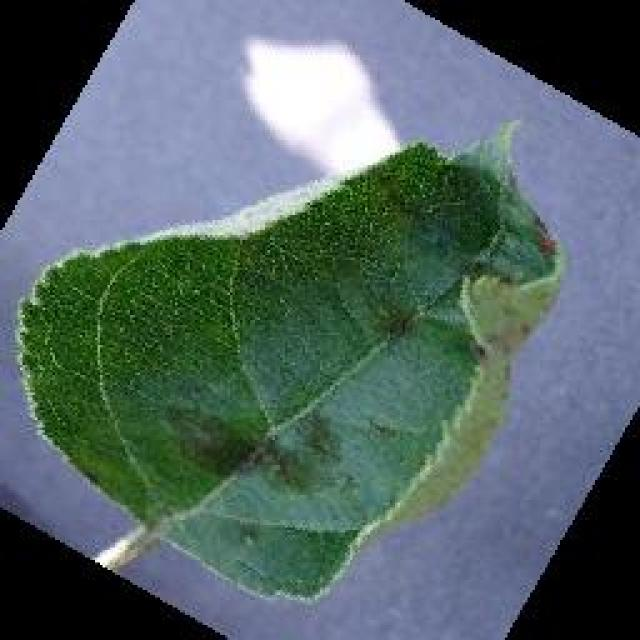apple scab disease: (13, 118, 565, 602)
